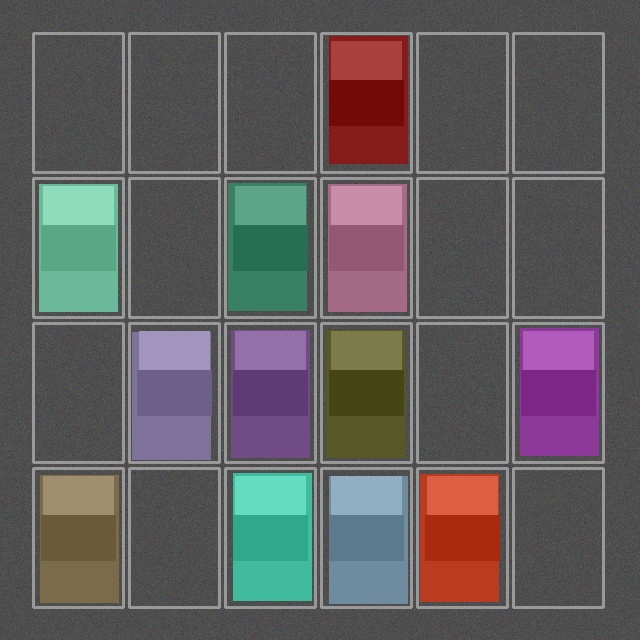space-empty: (35, 35, 121, 170), (131, 35, 217, 170), (227, 35, 313, 170), (419, 35, 505, 170), (515, 35, 601, 170), (131, 180, 217, 315), (419, 180, 505, 315), (515, 180, 601, 315), (35, 325, 121, 460), (419, 325, 505, 460), (131, 470, 217, 605), (515, 470, 601, 605)
space-occupied: (323, 35, 409, 170), (35, 180, 121, 315), (227, 180, 313, 315), (323, 180, 409, 315), (131, 325, 217, 460), (227, 325, 313, 460), (323, 325, 409, 460), (515, 325, 601, 460), (35, 470, 121, 605), (227, 470, 313, 605), (323, 470, 409, 605), (419, 470, 505, 605)
